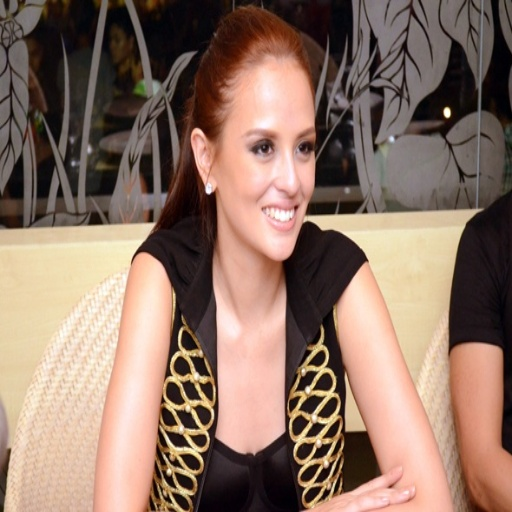hand: (308, 459, 414, 510)
